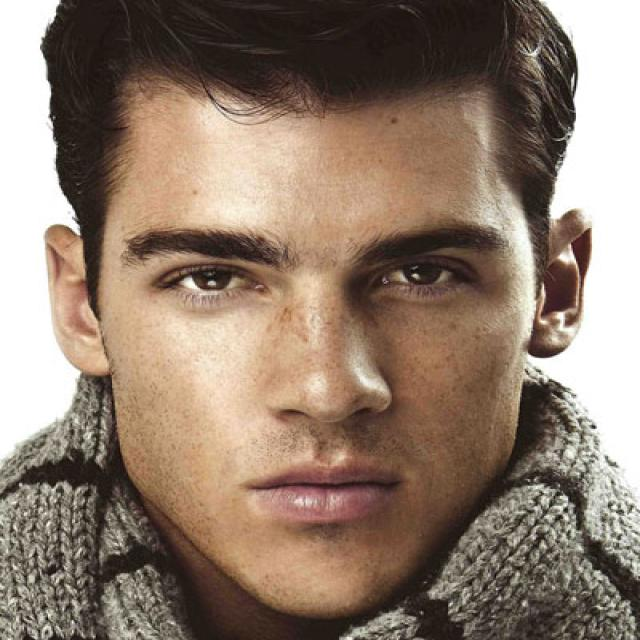front: (112, 153, 522, 545)
